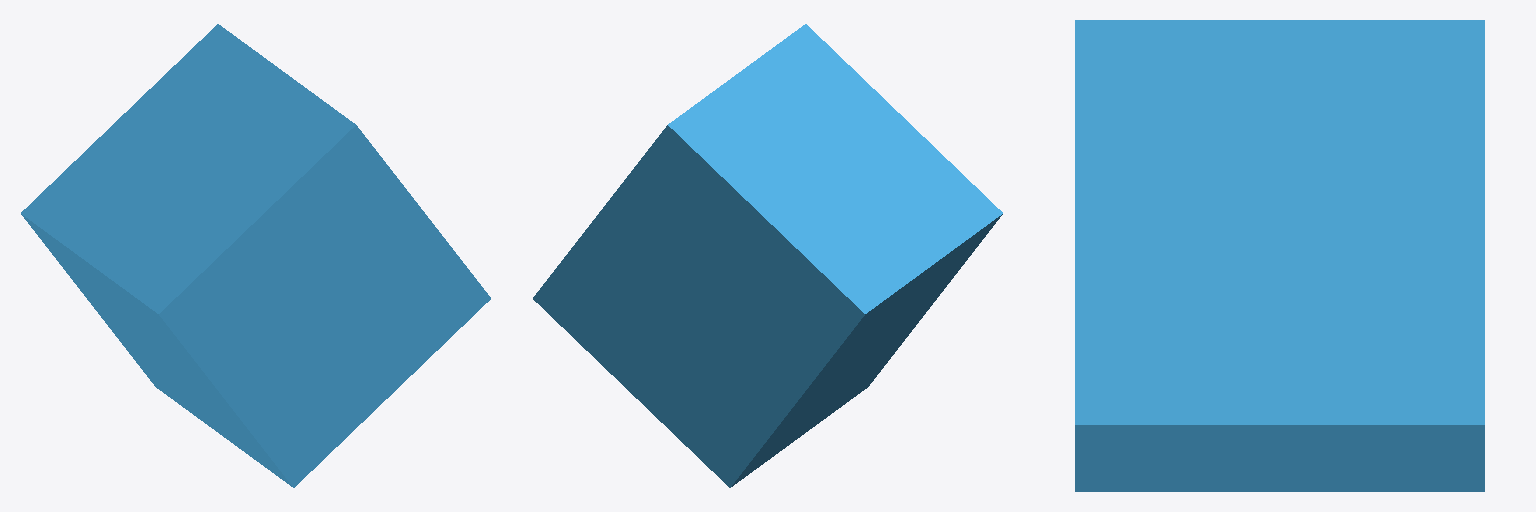
The robot description file, URDF, robot "wrist":
<robot name="wrist">
    <link name="world">
    </link>

    <joint name="joint_z" type="prismatic">
        <parent link="world"/>
        <child link="wrist"/>
        <origin rpy="0.0 0.0 0.0" xyz="0.0 0.0 0.4"/>
        <axis xyz="0 0 1"/>
        <limit lower="-1.0" upper="1.0" velocity="0.05" effort="1e9"/>
        <dynamics damping="0.0" friction="0.0"/>
    </joint>

    <link name="wrist">
        <visual>
            <origin rpy="0.0 -0.6 0.0" xyz="0.0 0.0 0.0"/>
            <geometry>
                <box size="0.1 0.1 0.1"/>
            </geometry>
        </visual>
        <collision>
            <origin rpy="0.0 -0.6 0.0" xyz="0.0 0.0 0.0"/>
            <geometry>
                <box size="0.1 0.1 0.1"/>
            </geometry>
        </collision>
    </link>

    <joint name="attach" type="fixed">
        <origin xyz="0 0 0" rpy="0 0 0"/>
        <parent link="wrist"/>
        <child link="soft"/>
    </joint>

    <link name="soft">
        <!--        <visual>-->
        <!--            <origin rpy="0 0 3.1415" xyz="0 0 -0.155"/>-->
        <!--            <geometry>-->
        <!--                <mesh filename="meshes/simplified_textured_v3.obj"/>-->
        <!--            </geometry>-->
        <!--        </visual>-->
        <fem>
            <origin rpy="0 0.6 3.1415" xyz="0.1 0 -0.155"/>
            <density value="1000"/>
            <youngs value="3e9"/>
            <poissons value="0.34"/>
            <damping value="0.0"/>
            <attachDistance value="0.05"/>
            <tetmesh filename="simplified_textured_v3.tet"/>
        </fem>
    </link>

</robot>

--- Render facts (derived) ---
3 views of the same robot in one strip: view 1: azimuth 30°, elevation 25°; view 2: azimuth 150°, elevation 25°; view 3: azimuth 270°, elevation 25° (orthographic).
Model wrist with 3 links and 2 joints (1 prismatic, 1 fixed), rooted at world, posed all joints at 0.
Links seen in each view (by area): view 1: wrist; view 2: wrist; view 3: wrist.
Boxes of the visible links, bbox=[...] form: wrist: bbox=[21, 24, 490, 487]; wrist: bbox=[533, 24, 1002, 487]; wrist: bbox=[1075, 20, 1484, 491].
Size in the robot's own frame: 0.139 by 0.1 by 0.139 metres.
Geometry: primitives only (box / cylinder / sphere), no mesh files.